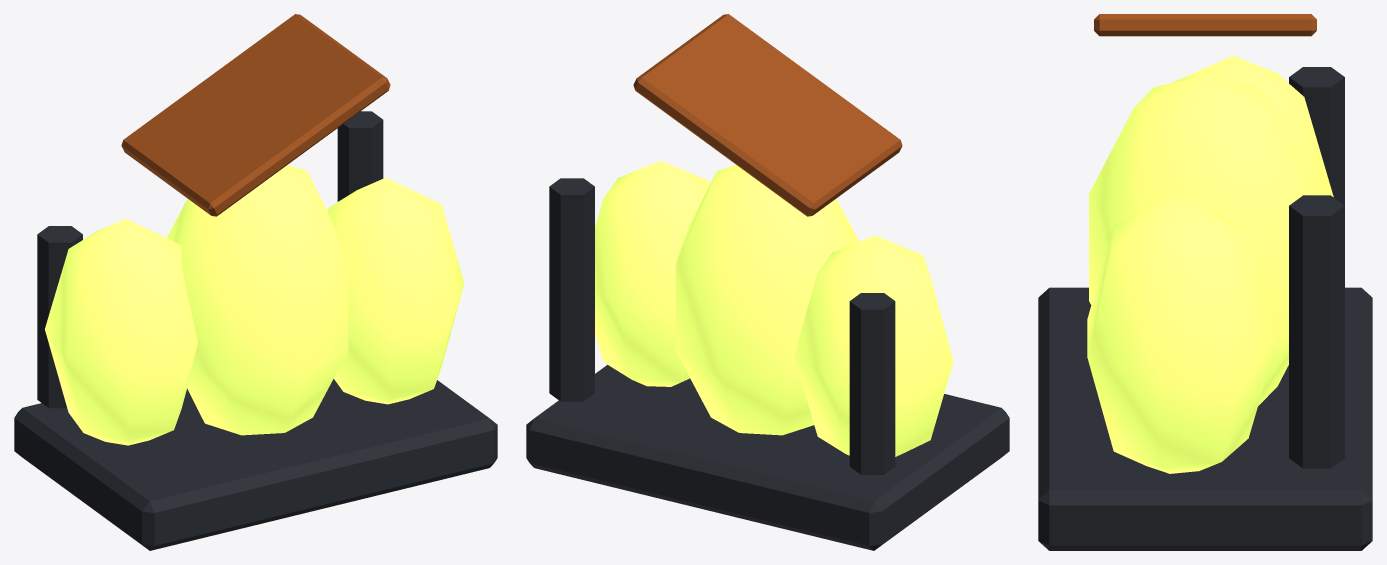
File: dc_hatch_pods.glb
The picture shows the model from 3 angles, left to right: view 1: azimuth 30°, elevation 25°; view 2: azimuth 150°, elevation 25°; view 3: azimuth 270°, elevation 25°; orthographic projection. The views are drawn at different scales.
Visible parts, largest first — view 1: part.dc_hatch_pods; view 2: part.dc_hatch_pods; view 3: part.dc_hatch_pods.
Boxes of the visible parts, bbox=[...] form: part.dc_hatch_pods: bbox=[14, 14, 497, 550]; part.dc_hatch_pods: bbox=[526, 14, 1009, 550]; part.dc_hatch_pods: bbox=[1038, 14, 1372, 550].
Size of the model in its own units: 0.951 by 0.9596 by 0.6.
